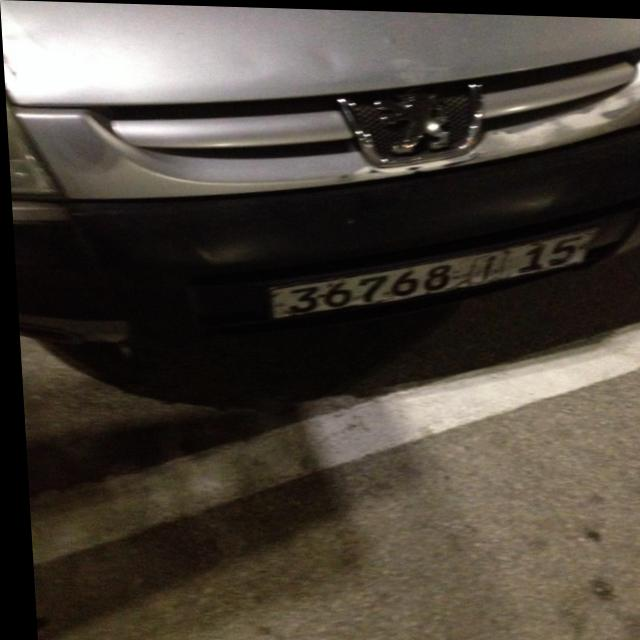License-Plate: (265, 224, 597, 317)
